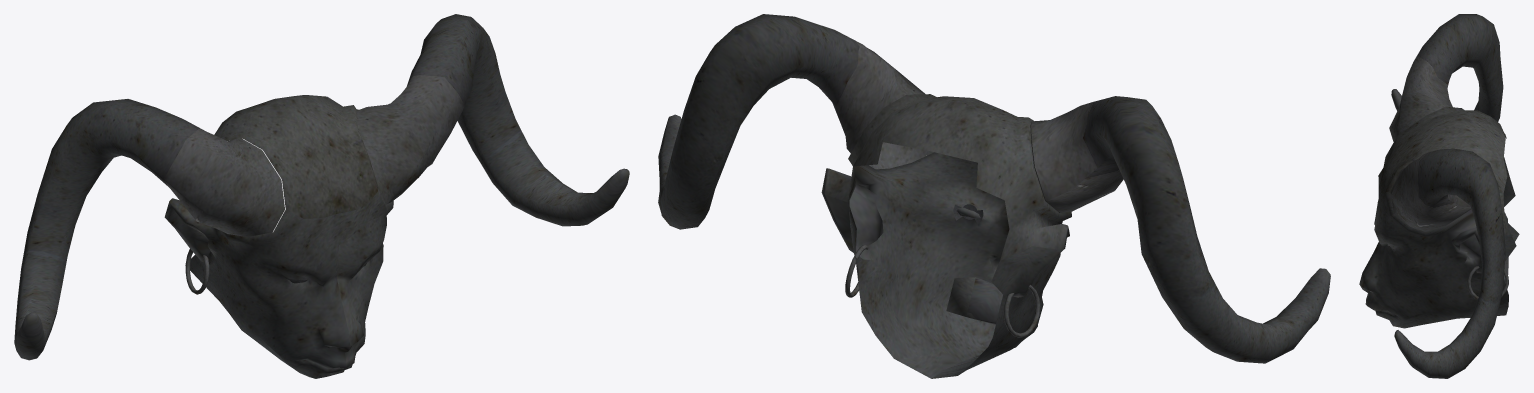
Rendered from Belial_Face_Arc.FBX.
The picture shows the model from 3 angles, left to right: view 1: azimuth 30°, elevation 25°; view 2: azimuth 150°, elevation 25°; view 3: azimuth 270°, elevation 25°; orthographic projection. The views are drawn at different scales.
Parts seen in each view (by area): view 1: Belial_Face_Arc; view 2: Belial_Face_Arc; view 3: Belial_Face_Arc.
Boxes of the visible parts, x1=… form: Belial_Face_Arc: x1=14, y1=14, x2=629, y2=378; Belial_Face_Arc: x1=658, y1=14, x2=1330, y2=378; Belial_Face_Arc: x1=1359, y1=14, x2=1519, y2=378.
Size of the model in its own units: 134 by 60.89 by 36.9.
